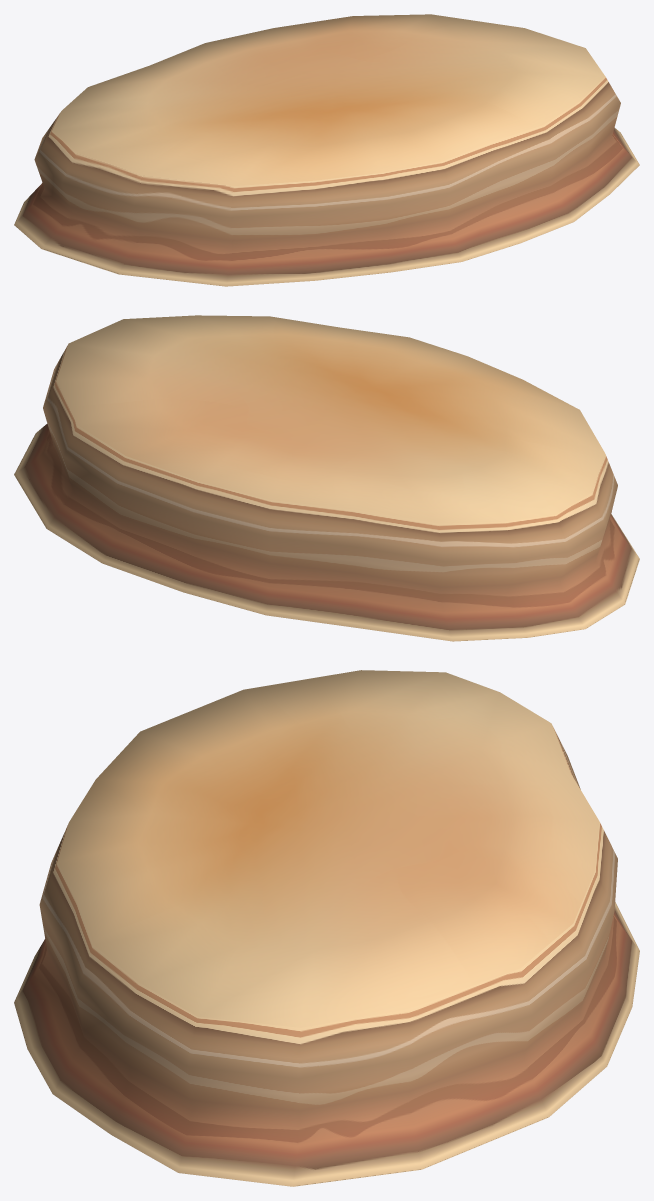
Rendered from Mount_Big_04.FBX.
3 views of the same model, one above another, from view 1: azimuth 30°, elevation 25°; view 2: azimuth 150°, elevation 25°; view 3: azimuth 270°, elevation 25° (orthographic). The views are drawn at different scales.
Visible parts, largest first — view 1: Mount_Big_04; view 2: Mount_Big_04; view 3: Mount_Big_04.
Boxes of the visible parts, box(x1,y1,x2,y2) form: Mount_Big_04: box(14, 14, 639, 286); Mount_Big_04: box(14, 315, 639, 641); Mount_Big_04: box(14, 670, 639, 1186).
Bounding box in the file's own units: 39.32 × 6.93 × 25.66.
